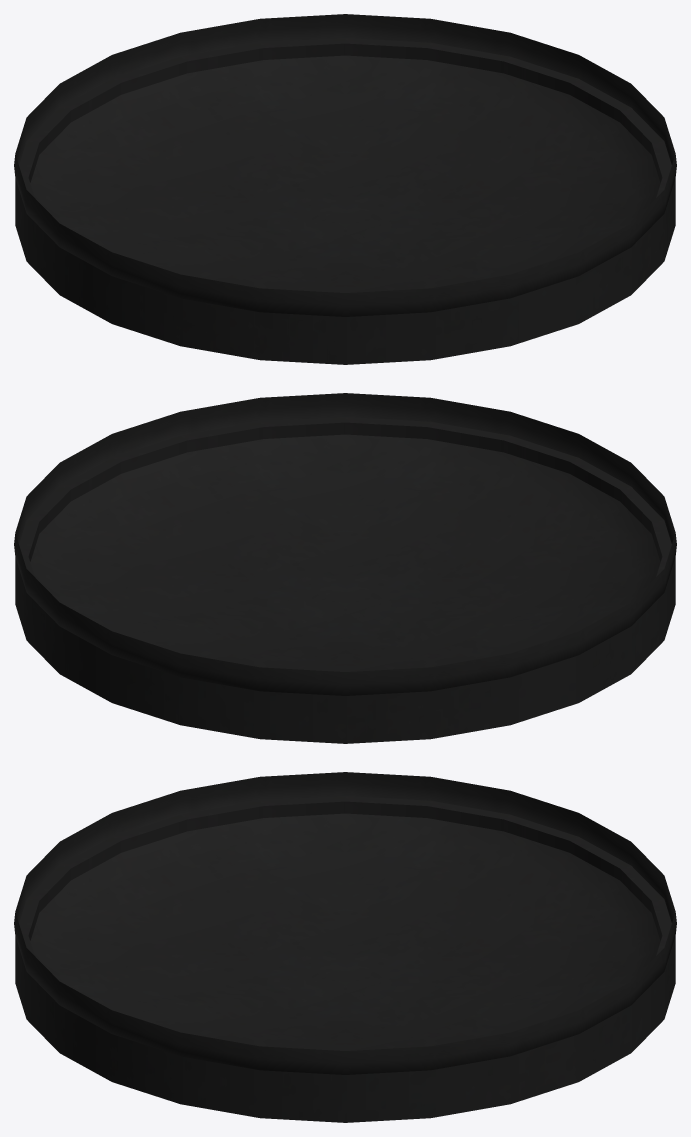
File: heatshield.obj
3 renders of one model, top to bottom at view 1: azimuth 30°, elevation 25°; view 2: azimuth 150°, elevation 25°; view 3: azimuth 270°, elevation 25°, orthographic.
Parts seen in each view (by area): view 1: mesh, fairing; view 2: mesh, fairing; view 3: mesh, fairing.
Boxes of the visible parts, box(x1,y1,x2,y2) form: mesh: box(14, 14, 676, 316); fairing: box(15, 38, 675, 364); mesh: box(14, 393, 676, 695); fairing: box(15, 417, 675, 743); mesh: box(14, 772, 676, 1074); fairing: box(15, 796, 675, 1122).
Size of the model in its own units: 1.25 by 0.15 by 1.25.
